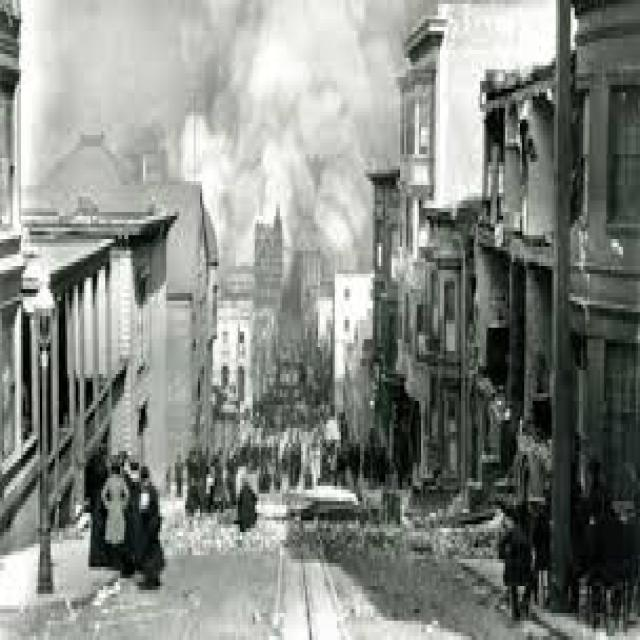Smoke: (55, 3, 402, 258)
